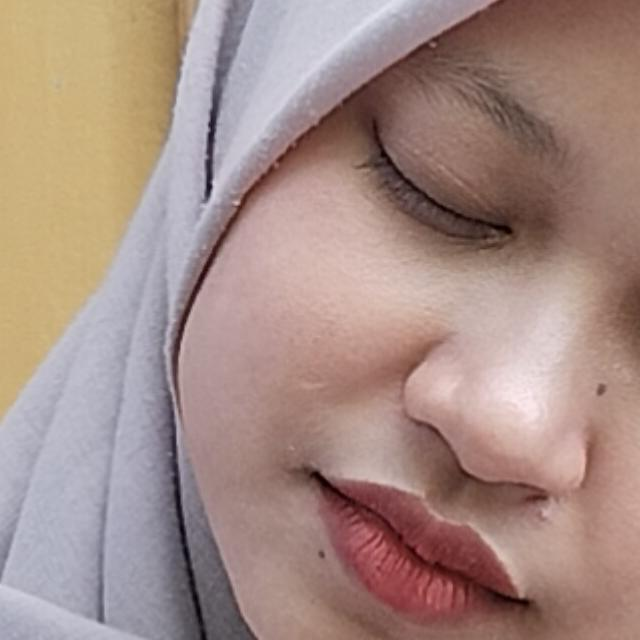tidur: (116, 168, 640, 640)
